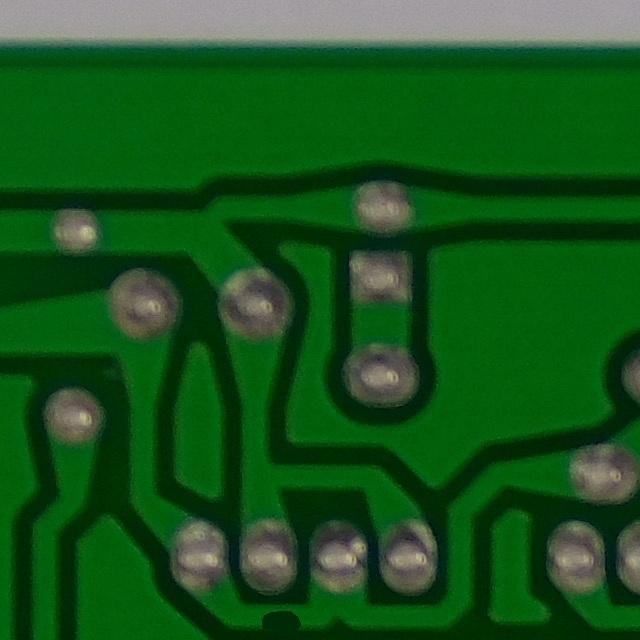mouse_bite: (237, 598, 319, 640)
